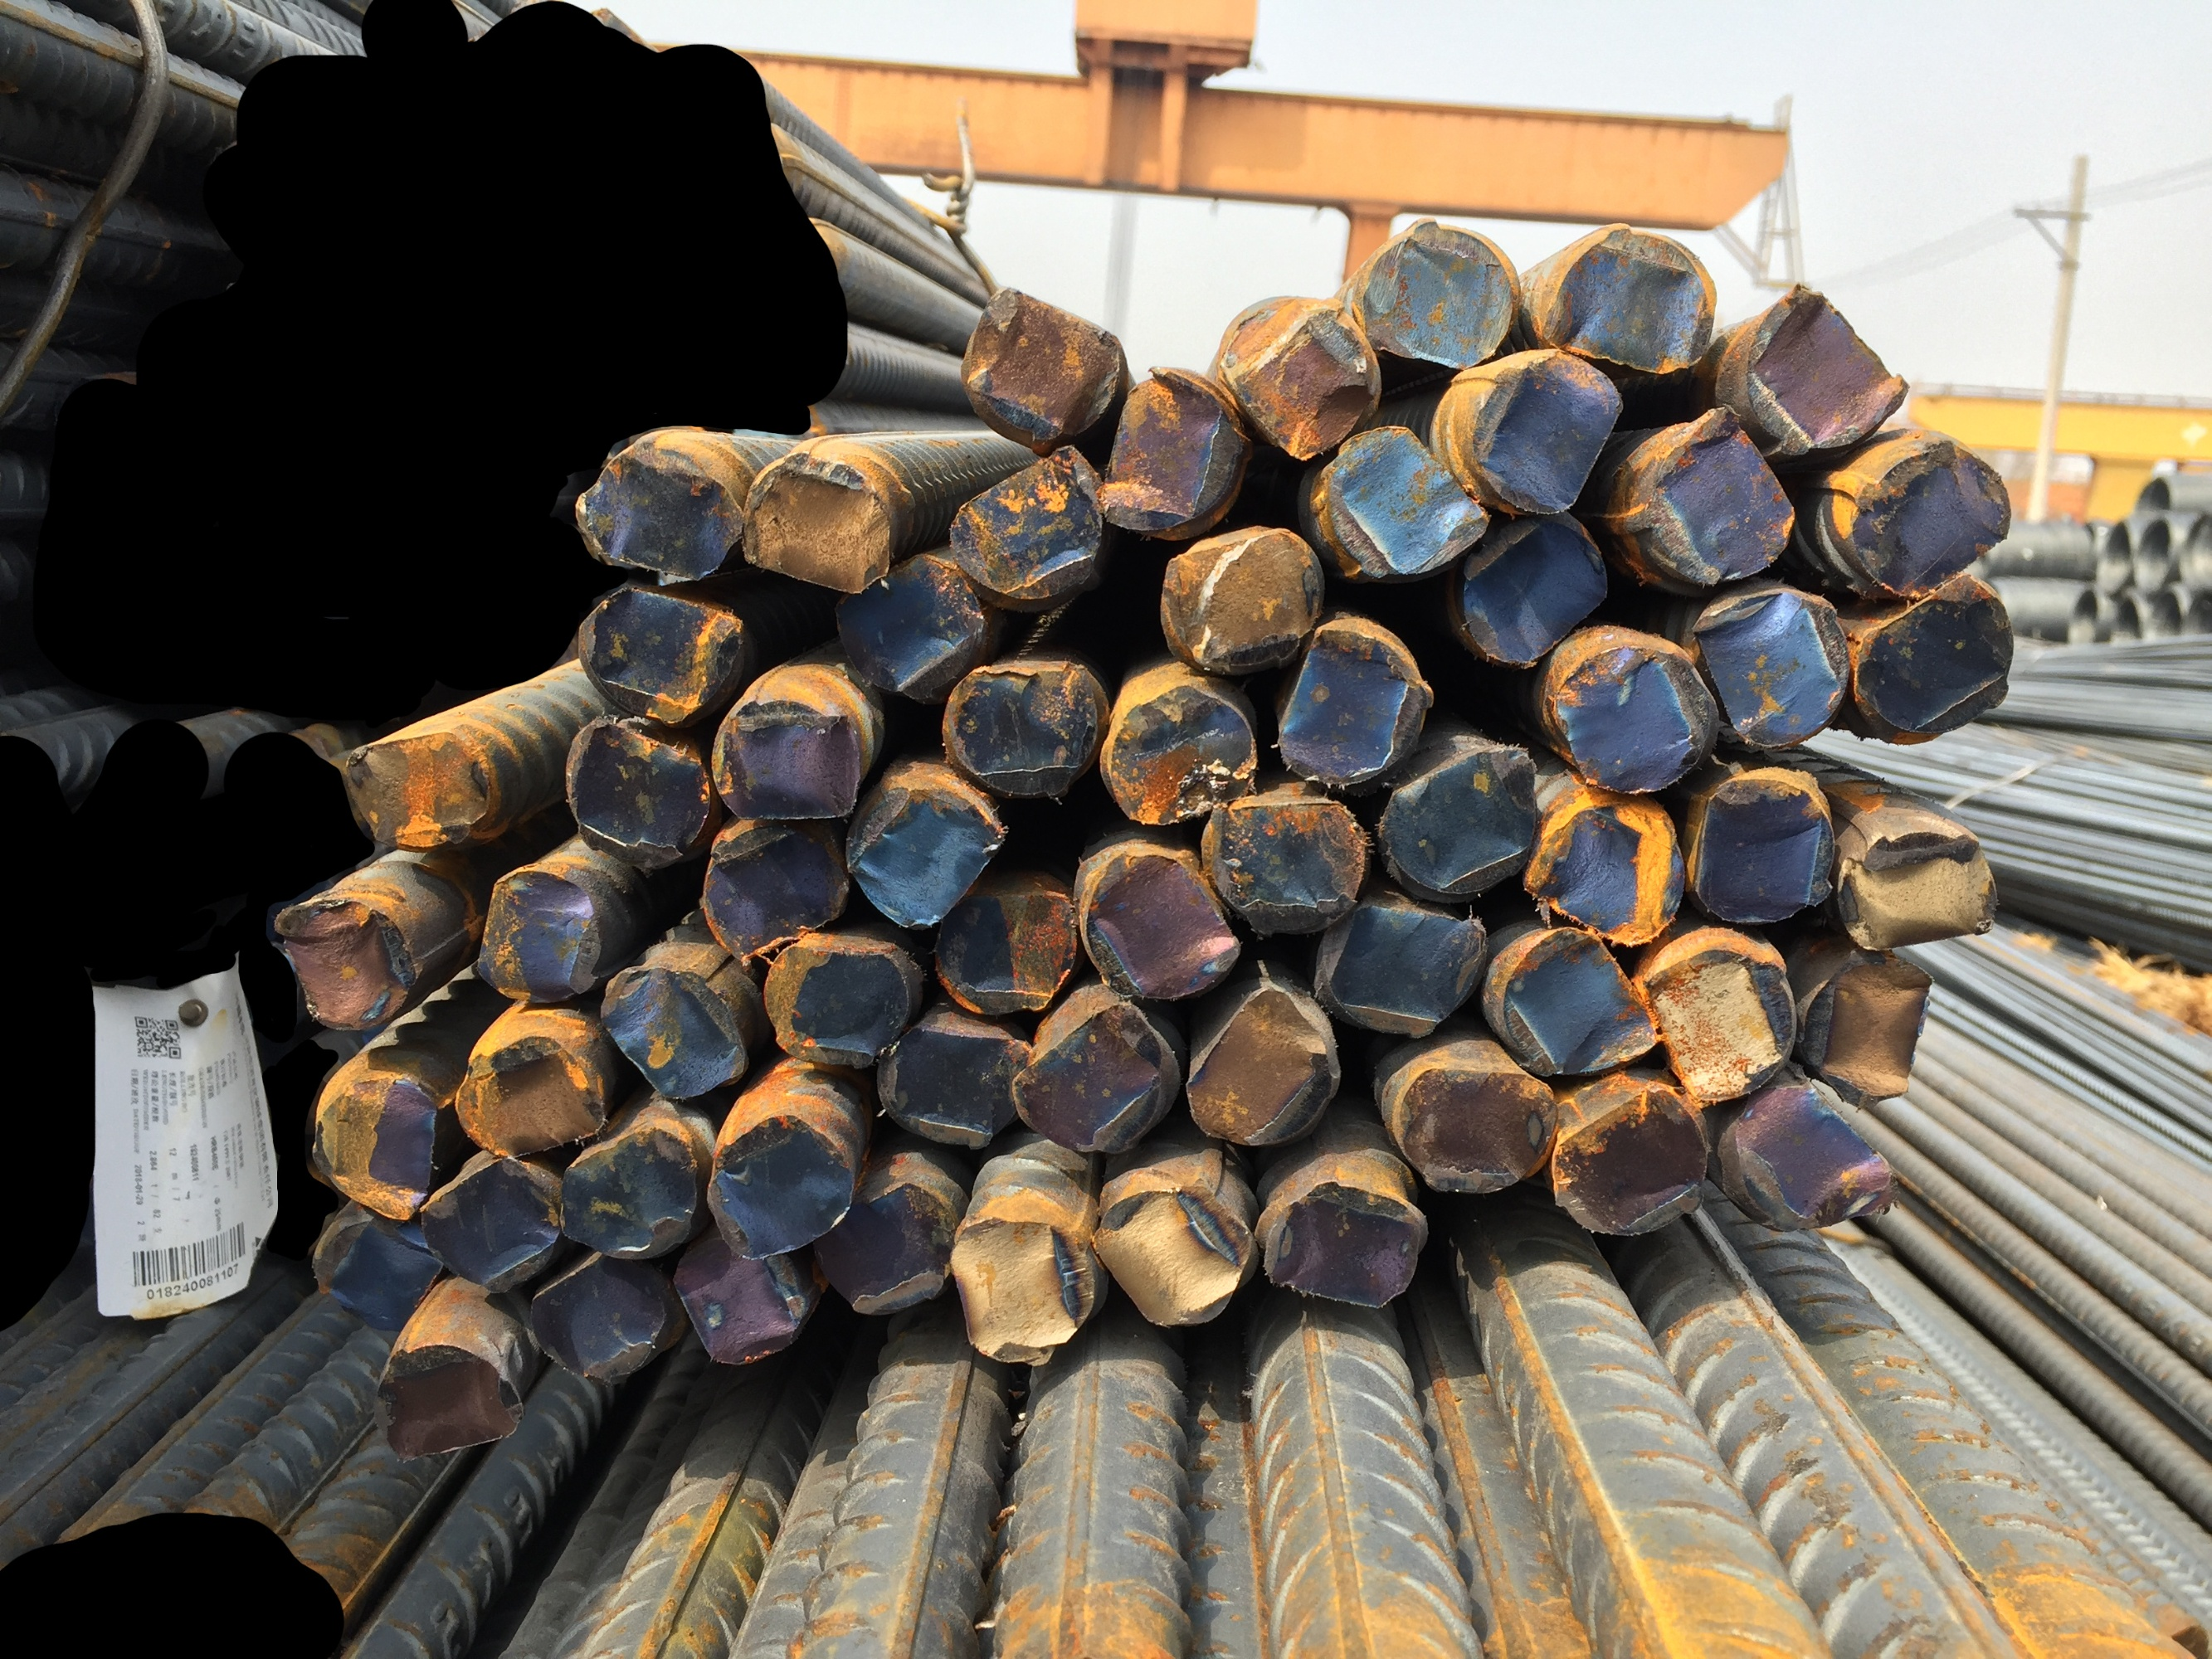rebar: (1440, 347, 1628, 521), (1311, 410, 1490, 589), (1539, 619, 1717, 798), (1680, 573, 1849, 760), (1729, 282, 1910, 453), (1626, 406, 1801, 582), (1839, 436, 2022, 603), (1222, 284, 1391, 464), (1259, 605, 1431, 779), (1445, 502, 1618, 676), (1853, 573, 2025, 748), (1544, 220, 1722, 387), (1069, 842, 1248, 1007), (1522, 782, 1694, 953), (1175, 983, 1344, 1157), (1365, 727, 1541, 894), (1014, 988, 1185, 1157), (1722, 1077, 1896, 1243), (1639, 929, 1801, 1105), (1353, 214, 1529, 376), (838, 767, 1008, 934), (959, 277, 1130, 443), (1091, 364, 1248, 544), (1154, 512, 1325, 676), (936, 446, 1110, 606), (727, 441, 906, 596), (926, 643, 1103, 798), (826, 540, 988, 709), (570, 580, 748, 730), (570, 436, 744, 587), (1546, 1084, 1710, 1244), (1499, 927, 1663, 1084), (687, 810, 851, 965), (1835, 803, 2006, 951), (943, 1211, 1102, 1370), (1192, 791, 1370, 932), (1691, 763, 1841, 931), (1788, 939, 1937, 1107), (695, 1108, 854, 1262), (302, 1063, 448, 1229), (917, 880, 1088, 1021), (856, 1016, 1032, 1152), (265, 889, 425, 1037), (558, 714, 718, 863), (1103, 681, 1264, 829), (1093, 1185, 1255, 1331), (1316, 897, 1487, 1035), (1389, 1058, 1557, 1197), (699, 690, 866, 826), (518, 1237, 675, 1382), (594, 965, 755, 1107), (458, 861, 607, 1011), (338, 727, 502, 861), (1264, 1178, 1428, 1312), (753, 932, 910, 1072), (664, 1222, 814, 1363), (370, 1330, 523, 1466), (418, 1147, 558, 1295), (450, 1035, 610, 1162), (560, 1119, 701, 1260), (823, 1176, 955, 1326), (305, 1202, 451, 1321)
